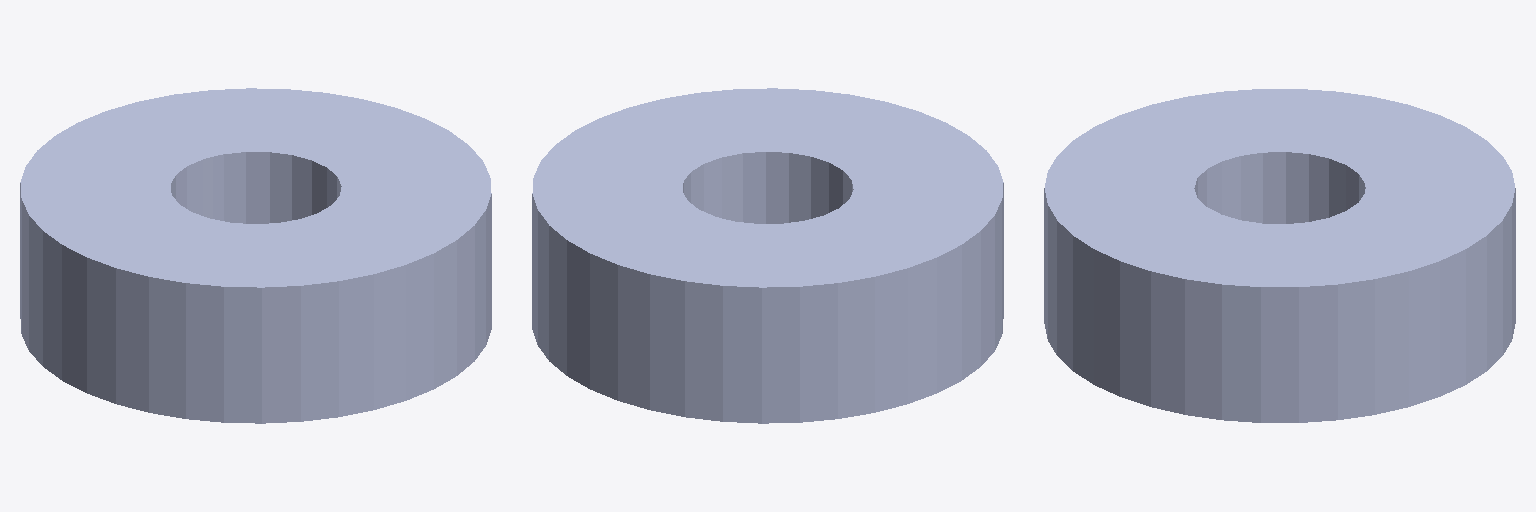
URDF robot description (bearing_model):
<?xml version="1.0" encoding="utf-8"?>
<!-- This URDF was automatically created by SolidWorks to URDF Exporter! Originally created by [author] ([email redacted]) 
     Commit Version: 1.6.0-1-g15f4949  Build Version: 1.6.7594.29634
     For more information, please see http://wiki.ros.org/sw_urdf_exporter -->
<robot
  name="bearing_model">
  <link
    name="bearing_link">
    <inertial>
      <origin
        xyz="0 0 4.33680868994202E-19"
        rpy="0 0 0" />
      <mass
        value="0.00230907060038849" />
      <inertia
        ixx="8.85143730148922E-08"
        ixy="-2.15005562442405E-41"
        ixz="2.24151445541345E-40"
        iyy="8.85143730148922E-08"
        iyz="9.69257200025217E-41"
        izz="1.58171336126612E-07" />
    </inertial>
    <visual>
      <origin
        xyz="0 0 0"
        rpy="0 0 0" />
      <geometry>
        <mesh
          filename="package://bearing_model/meshes/bearing_link.STL" />
      </geometry>
      <material
        name="">
        <color
          rgba="0.792156862745098 0.819607843137255 0.933333333333333 1" />
      </material>
    </visual>
    <collision>
      <origin
        xyz="0 0 0"
        rpy="0 0 0" />
      <geometry>
        <mesh
          filename="package://bearing_model/meshes/bearing_link.STL" />
      </geometry>
      <surface>
              <friction>
                <ode>
                  <mu>0</mu>
                  <mu2>0</mu2>
                </ode>
              </friction>
            </surface>
    </collision>
  </link>
<gazebo>
  <plugin name="plannar_mover_plugin" filename="libplannar_mover_plugin.so">
  </plugin>
</gazebo>
</robot>

--- Render facts (derived) ---
The picture shows the robot from 3 angles, left to right: view 1: azimuth 30°, elevation 25°; view 2: azimuth 150°, elevation 25°; view 3: azimuth 270°, elevation 25°; orthographic projection.
Robot: bearing_model — 1 links, 0 joints (none); root link bearing_link; default pose: all joints at 0.
Links seen in each view (by area): view 1: bearing_link; view 2: bearing_link; view 3: bearing_link.
Link boxes in pixels (<box>): bearing_link: <box>20,88,491,423</box>; bearing_link: <box>532,88,1003,423</box>; bearing_link: <box>1044,89,1515,422</box>.
Size in the robot's own frame: 0.0219 by 0.022 by 0.007 metres.
Meshes: 1 distinct files referenced, 1 mesh visuals loaded (1 binary STL).